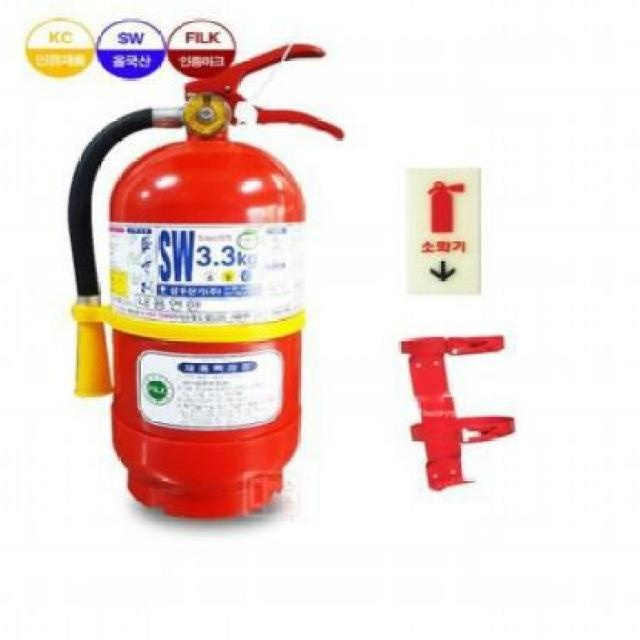fire extinguisher: (66, 42, 345, 518)
